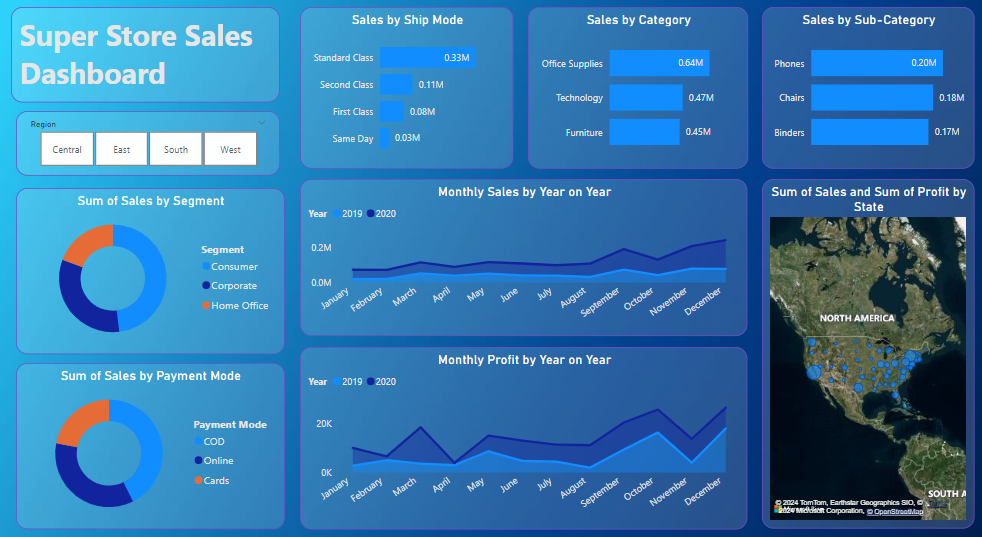

This screenshot's page, from the dashboard's own definition file:
{"tool":"powerbi","page":{"name":"Page 1","canvas":[1280,720],"ordinal":0},"visuals":[{"type":"clusteredBarChart","title":"Sales by Category","fields":{"Y":["Sum(SuperStore Sales Dashboard.Sales)"],"Category":["SuperStore Sales Dashboard.Category"]},"box":[687.1,10,285.7,210],"z":0},{"type":"clusteredBarChart","title":"Sales by Sub-Category","fields":{"Y":["Sum(SuperStore Sales Dashboard.Sales)"],"Category":["SuperStore Sales Dashboard.Sub-Category"]},"box":[991.4,10,275.7,210],"z":1000},{"type":"clusteredBarChart","title":"Sales by Ship Mode","fields":{"Y":["Sum(SuperStore Sales Dashboard.Sales)"],"Category":["SuperStore Sales Dashboard.Ship Mode"]},"box":[391.4,10,277.1,210],"z":2000},{"type":"stackedAreaChart","title":"Monthly Sales by Year on Year","fields":{"Category":["SuperStore Sales Dashboard.Order Date.Variation.Date Hierarchy.Month"],"Y":["Sum(SuperStore Sales Dashboard.Sales)"],"Series":["SuperStore Sales Dashboard.Order Date.Variation.Date Hierarchy.Year"]},"box":[391.4,234.3,581.4,204.3],"z":3000},{"type":"stackedAreaChart","title":"Monthly Profit by Year on Year","fields":{"Category":["SuperStore Sales Dashboard.Order Date.Variation.Date Hierarchy.Month"],"Series":["SuperStore Sales Dashboard.Order Date.Variation.Date Hierarchy.Year"],"Y":["Sum(SuperStore Sales Dashboard.Profit)"]},"box":[391.4,451.4,581.4,237.1],"z":4000},{"type":"map","fields":{"Category":["SuperStore Sales Dashboard.State"],"Size":["Sum(SuperStore Sales Dashboard.Sales)"]},"box":[991.4,234.3,275.7,454.3],"z":5000},{"type":"donutChart","fields":{"Category":["SuperStore Sales Dashboard.Segment"],"Y":["Sum(SuperStore Sales Dashboard.Sales)"]},"box":[21.4,245.7,348.6,215.7],"z":6000},{"type":"donutChart","fields":{"Y":["Sum(SuperStore Sales Dashboard.Sales)"],"Category":["SuperStore Sales Dashboard.Payment Mode"]},"box":[21.4,472.9,348.6,215.7],"z":7000},{"type":"slicer","fields":{"Values":["SuperStore Sales Dashboard.Region"]},"box":[21.4,145.7,342.9,84.3],"z":8000},{"type":"textbox","box":[15.7,10,348.6,124.3],"z":9000}]}

Visuals, with their boxes in screenshot pixels (x1, y1, x2, y2), scaled from the page's 1280x720 canvas onto the 982x537 screenshot:
"Sales by Category" clusteredBarChart: [527,7,746,164]
"Sales by Sub-Category" clusteredBarChart: [761,7,972,164]
"Sales by Ship Mode" clusteredBarChart: [300,7,513,164]
"Monthly Sales by Year on Year" stackedAreaChart: [300,175,746,327]
"Monthly Profit by Year on Year" stackedAreaChart: [300,337,746,514]
map - SuperStore Sales Dashboard.State x Sum(SuperStore Sales Dashboard.Sales): [761,175,972,514]
donutChart - SuperStore Sales Dashboard.Segment x Sum(SuperStore Sales Dashboard.Sales): [16,183,284,344]
donutChart - Sum(SuperStore Sales Dashboard.Sales) x SuperStore Sales Dashboard.Payment Mode: [16,353,284,514]
slicer - SuperStore Sales Dashboard.Region: [16,109,279,172]
textbox: [12,7,279,100]
